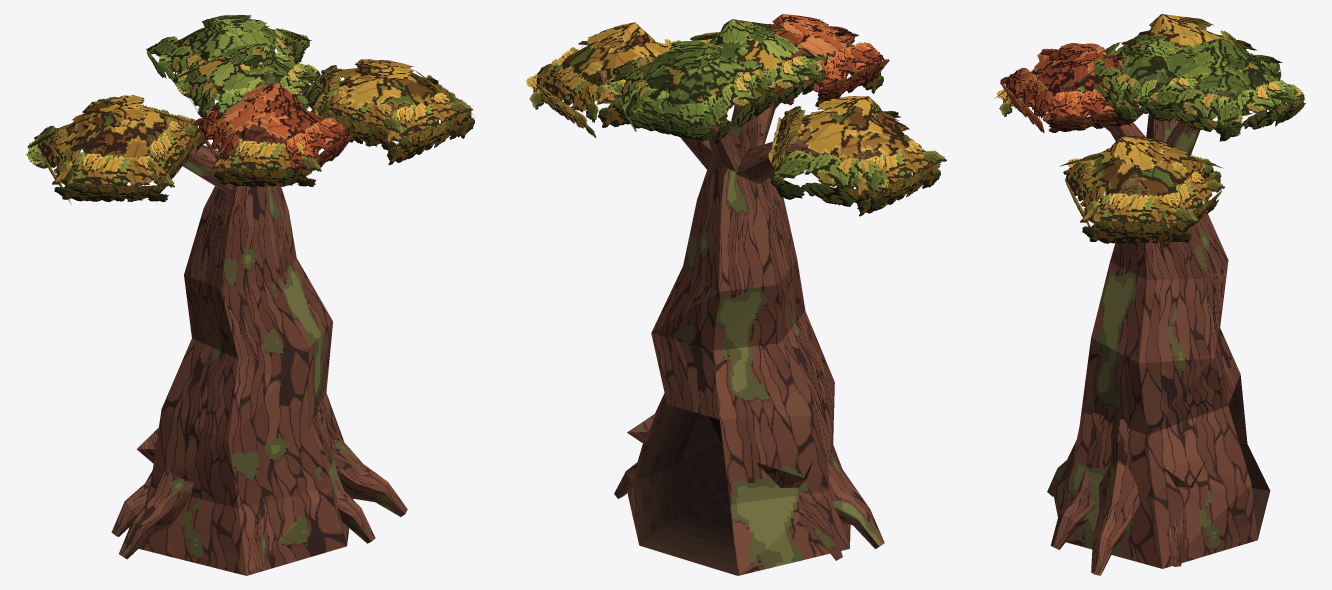
File: SM_TR06_Hollow.fbx
3 renders of one model, left to right at view 1: azimuth 30°, elevation 25°; view 2: azimuth 150°, elevation 25°; view 3: azimuth 270°, elevation 25°, orthographic. The views are drawn at different scales.
Visible parts, largest first — view 1: TR06_Bark, TR06_Crown; view 2: TR06_Bark, TR06_Crown, TR06_Parts; view 3: TR06_Bark, TR06_Crown, TR06_Parts.
Part boxes in pixels (x1=…): TR06_Bark: x1=111, y1=121, x2=407, y2=575; TR06_Crown: x1=26, y1=15, x2=474, y2=204; TR06_Bark: x1=614, y1=87, x2=884, y2=575; TR06_Crown: x1=526, y1=14, x2=946, y2=216; TR06_Parts: x1=637, y1=404, x2=737, y2=575; TR06_Bark: x1=1047, y1=111, x2=1257, y2=575; TR06_Crown: x1=994, y1=14, x2=1305, y2=245; TR06_Parts: x1=1228, y1=374, x2=1270, y2=539.
Bounding box in the file's own units: 6.37 × 7.08 × 4.45.
